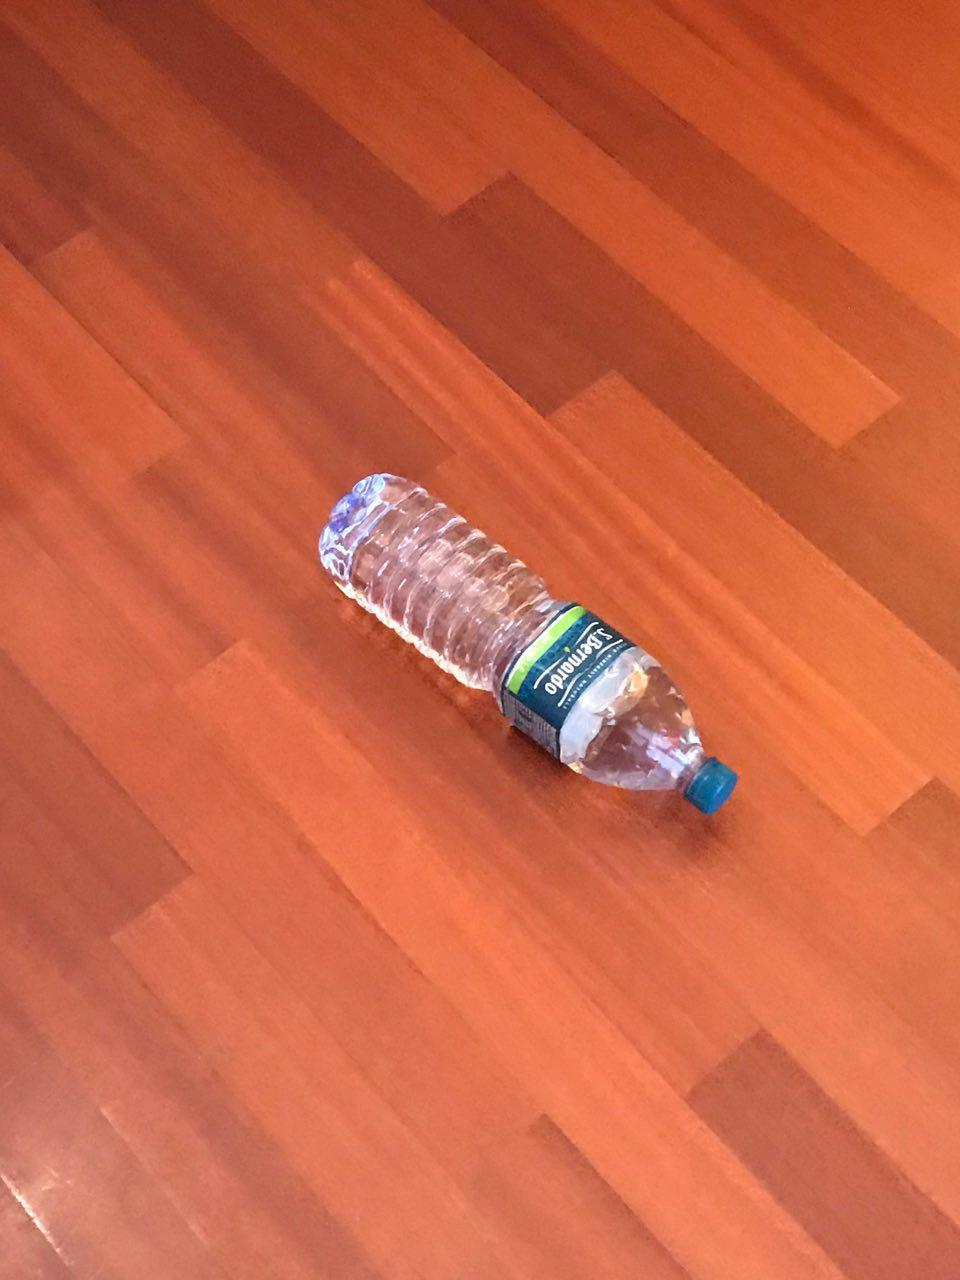san_bernardo: (316, 471, 740, 816)
